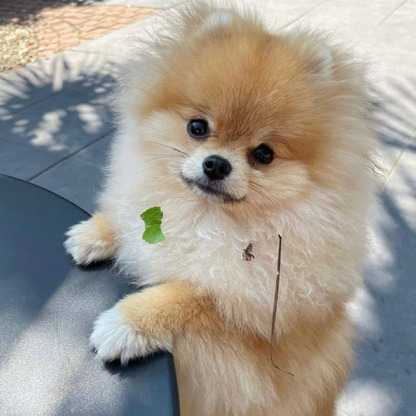Pomeranian: (99, 23, 380, 405)
